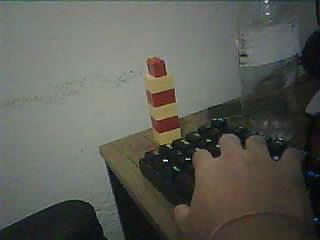lego: (143, 57, 182, 146)
